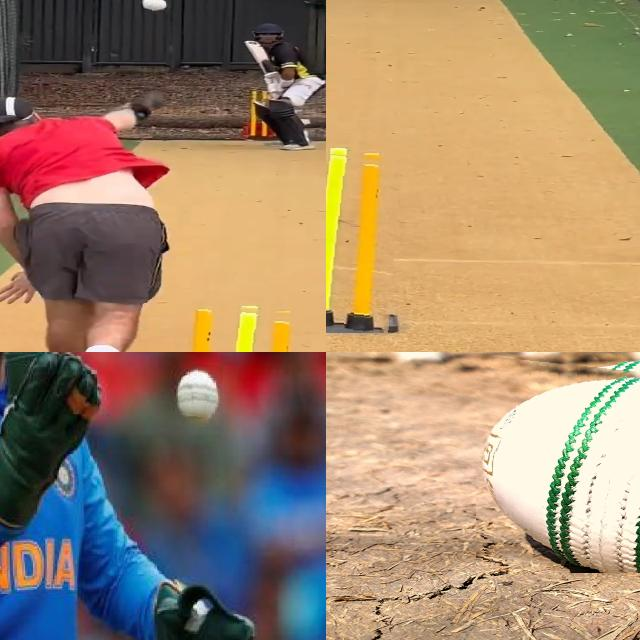Cricket ball: (476, 354, 640, 573), (174, 361, 223, 427), (138, 0, 172, 14)
Stumps: (326, 146, 401, 333), (174, 300, 313, 352)
